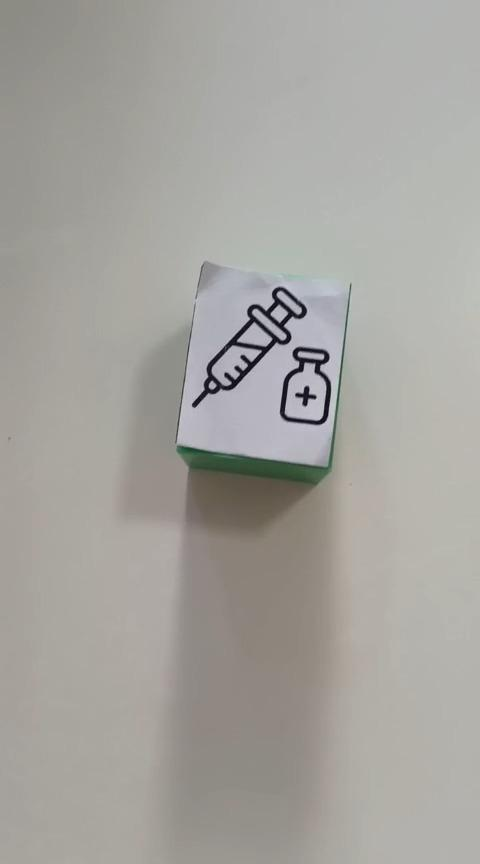antiseptic cream: (173, 259, 352, 484)
